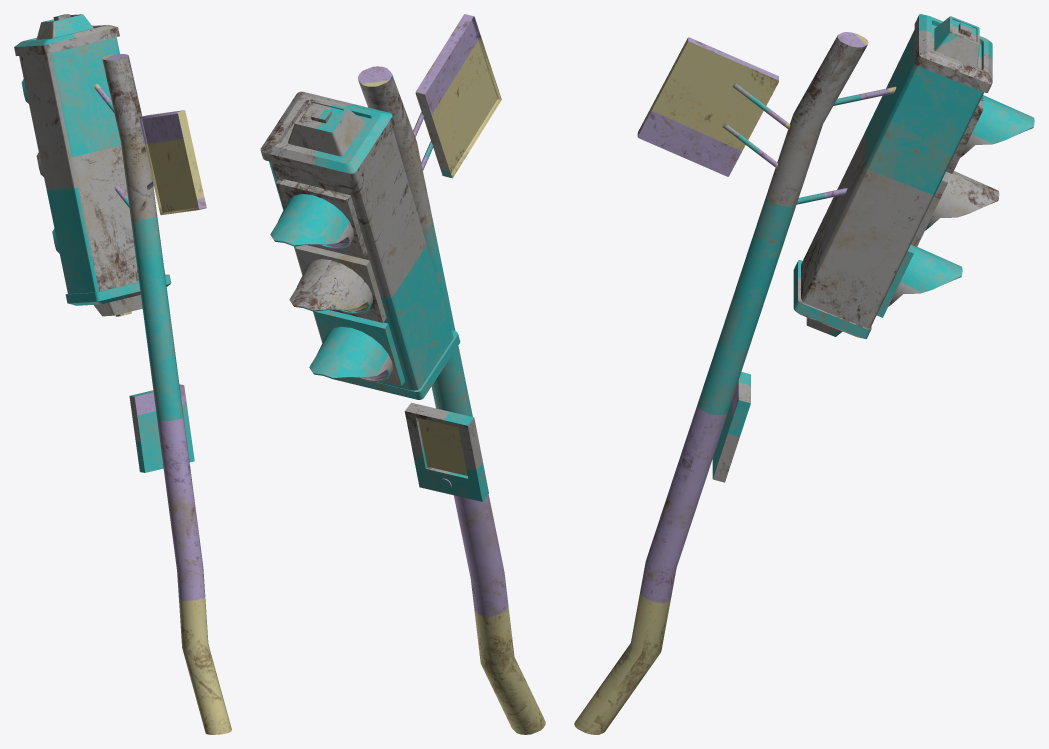
Rendered from small traffic.fbx.
3 views of the same model, side by side, from view 1: azimuth 30°, elevation 25°; view 2: azimuth 150°, elevation 25°; view 3: azimuth 270°, elevation 25° (orthographic). The views are drawn at different scales.
Parts seen in each view (by area): view 1: polySurface424, polySurface279, polySurface290, polySurface414, polySurface273, polySurface418; view 2: polySurface279, polySurface424, polySurface290, polySurface414, polySurface273, polySurface421, polySurface420, polySurface422, polySurface415, polySurface423, polySurface425, polySurface418; view 3: polySurface279, polySurface424, polySurface290, polySurface414, polySurface422, polySurface273, polySurface420, polySurface421, polySurface418.
Boxes of the visible parts, box(x1,y1,x2,y2) form: polySurface424: box(19, 37, 165, 293); polySurface279: box(102, 54, 231, 734); polySurface290: box(139, 110, 206, 215); polySurface414: box(14, 14, 119, 55); polySurface273: box(129, 384, 194, 472); polySurface418: box(65, 274, 171, 316); polySurface279: box(358, 66, 545, 734); polySurface424: box(269, 128, 453, 390); polySurface290: box(415, 14, 501, 178); polySurface414: box(260, 91, 394, 181); polySurface273: box(404, 402, 488, 501); polySurface421: box(309, 326, 392, 382); polySurface420: box(289, 259, 372, 314); polySurface422: box(270, 194, 353, 249); polySurface415: box(314, 310, 404, 385); polySurface423: box(295, 245, 386, 322); polySurface425: box(276, 178, 367, 257); polySurface418: box(334, 330, 460, 399); polySurface279: box(574, 32, 868, 734); polySurface424: box(801, 30, 983, 328); polySurface290: box(637, 37, 778, 176); polySurface414: box(914, 14, 992, 92); polySurface422: box(960, 95, 1034, 157); polySurface273: box(712, 372, 750, 482); polySurface420: box(925, 171, 999, 230); polySurface421: box(888, 246, 962, 306); polySurface418: box(793, 260, 871, 338).
Bounding box in the file's own units: 0.4308 × 3.31 × 1.95.
